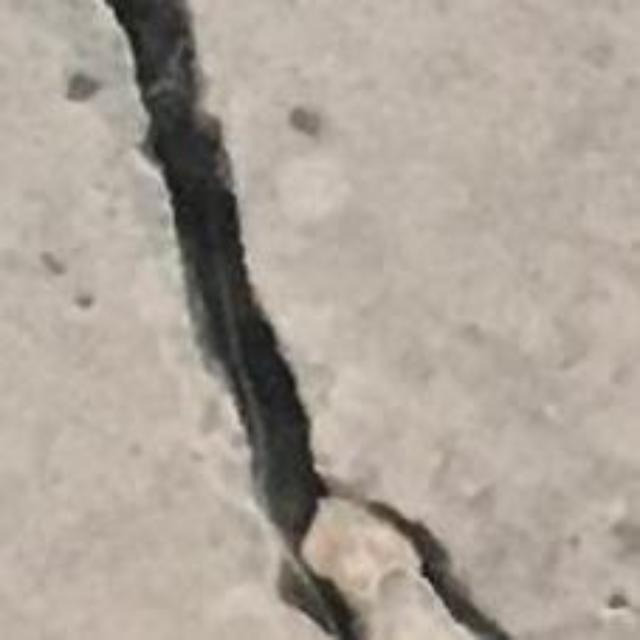crack: (105, 0, 513, 639)
